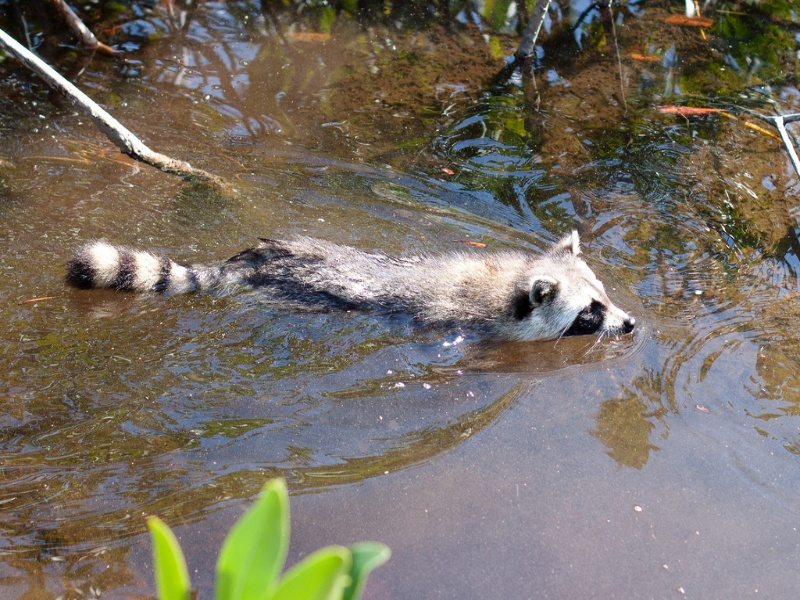raccoon: (64, 224, 640, 354)
